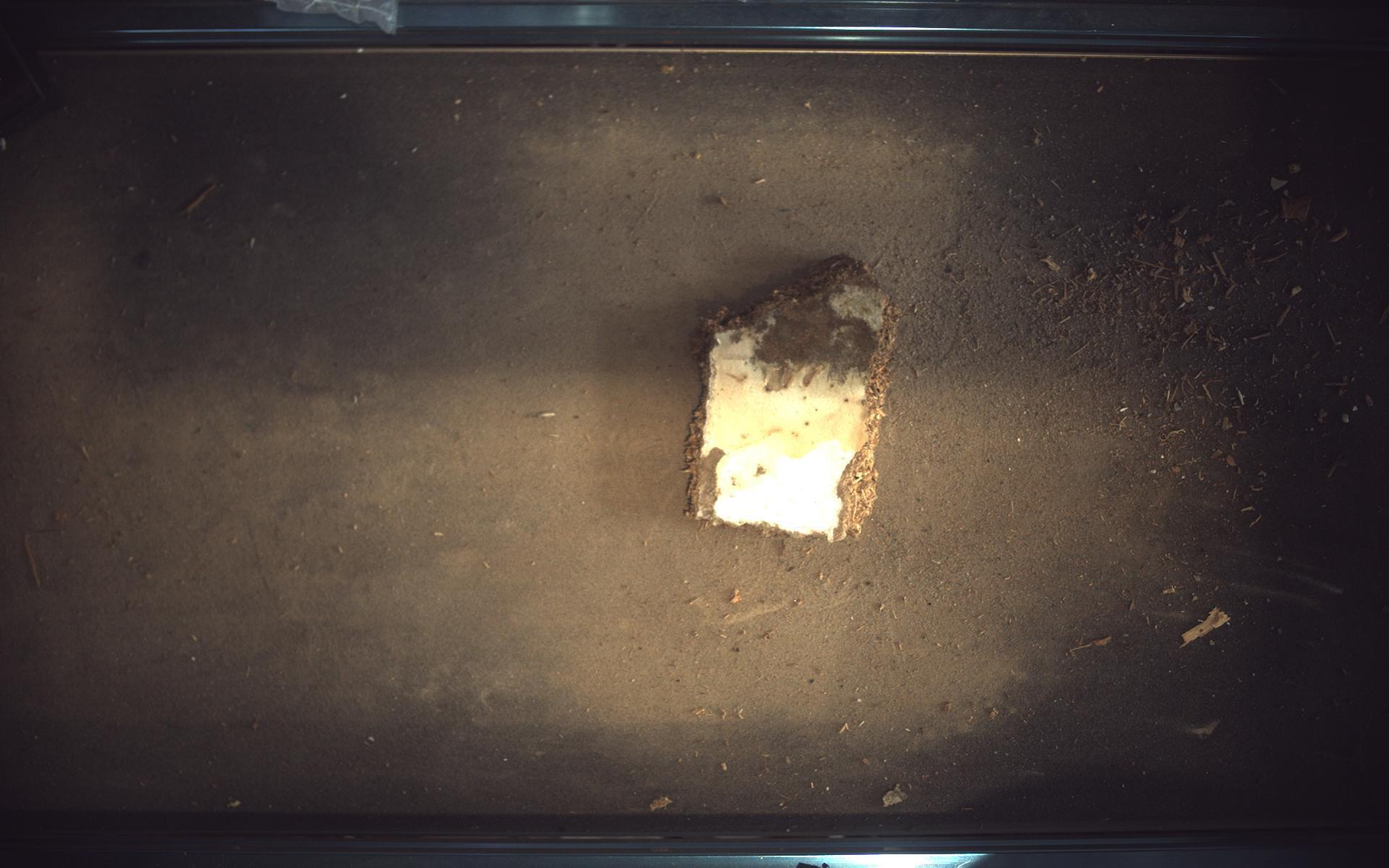wood: (687, 255, 901, 541)
